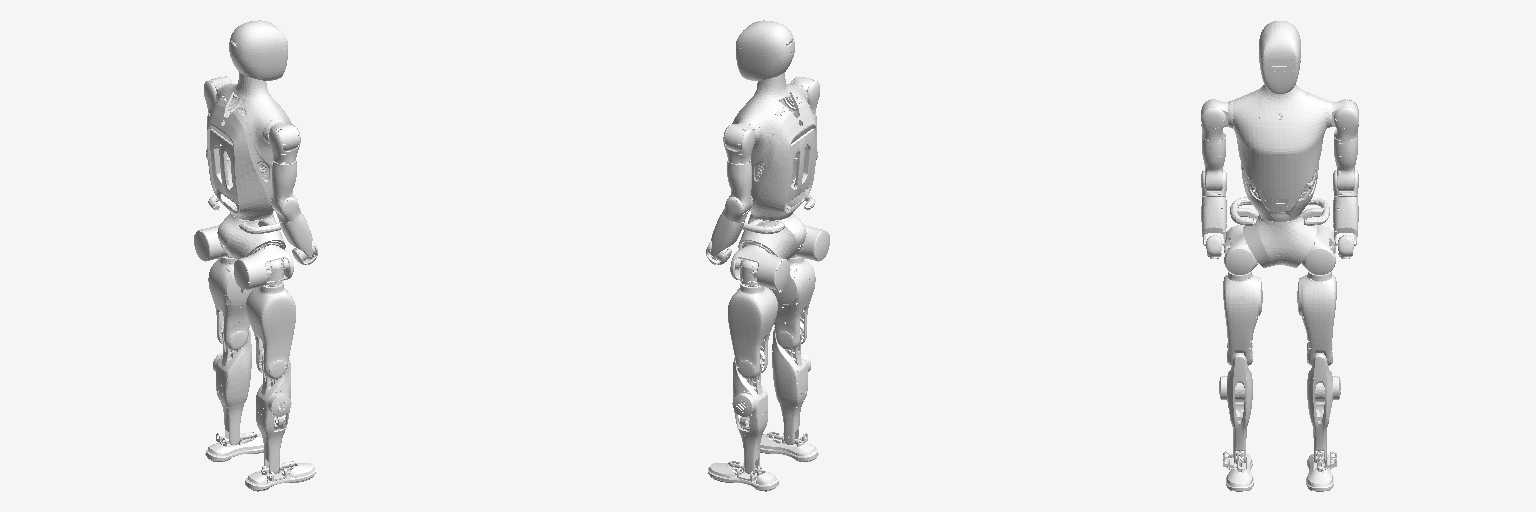
--- What the picture shows (computed from the rendered views, not written in the file) ---
Views: 3 orthographic renders of the robot side by side, from view 1: azimuth 30°, elevation 25°; view 2: azimuth 150°, elevation 25°; view 3: azimuth 270°, elevation 25°.
Robot: gr2v3_8_7 — 35 links, 34 joints (29 revolute, 5 fixed); root link base_link; default pose: every joint at zero.
Visible links, largest first — view 1: torso_link, right_thigh_yaw_link, head_pitch_link, left_thigh_yaw_link, left_shank_pitch_link, right_shank_pitch_link, base_link, right_thigh_pitch_link, right_foot_roll_link, left_foot_roll_link, right_upper_arm_yaw_link, right_hand_yaw_link (+2 smaller); view 2: torso_link, left_thigh_yaw_link, head_pitch_link, right_thigh_yaw_link, right_shank_pitch_link, left_shank_pitch_link, base_link, left_thigh_pitch_link, left_foot_roll_link, right_foot_roll_link, left_upper_arm_yaw_link, right_thigh_pitch_link (+2 smaller); view 3: torso_link, base_link, left_thigh_yaw_link, right_thigh_yaw_link, head_pitch_link, right_shank_pitch_link, left_shank_pitch_link, left_thigh_pitch_link, right_thigh_pitch_link, left_upper_arm_yaw_link, right_upper_arm_yaw_link, right_hand_yaw_link (+5 smaller).
Link boxes in pixels (x1,y1,x2,y2): torso_link: [207, 72, 291, 220]; right_thigh_yaw_link: [246, 283, 295, 378]; head_pitch_link: [229, 20, 287, 80]; left_thigh_yaw_link: [208, 256, 254, 349]; left_shank_pitch_link: [213, 329, 251, 444]; right_shank_pitch_link: [256, 358, 291, 473]; base_link: [208, 195, 285, 259]; right_thigh_pitch_link: [234, 245, 293, 290]; right_foot_roll_link: [245, 463, 315, 491]; left_foot_roll_link: [205, 433, 263, 461]; right_upper_arm_yaw_link: [271, 161, 296, 213]; right_hand_yaw_link: [279, 212, 312, 256]; torso_link: [732, 72, 816, 220]; left_thigh_yaw_link: [728, 283, 777, 378]; head_pitch_link: [736, 20, 794, 80]; right_thigh_yaw_link: [769, 256, 815, 349]; right_shank_pitch_link: [772, 329, 810, 444]; left_shank_pitch_link: [732, 358, 767, 473]; base_link: [738, 195, 815, 259]; left_thigh_pitch_link: [730, 245, 790, 290]; left_foot_roll_link: [708, 463, 778, 491]; right_foot_roll_link: [760, 433, 818, 461]; left_upper_arm_yaw_link: [727, 161, 752, 213]; right_thigh_pitch_link: [796, 225, 829, 261]; torso_link: [1228, 85, 1331, 221]; base_link: [1230, 197, 1329, 267]; left_thigh_yaw_link: [1297, 271, 1336, 365]; right_thigh_yaw_link: [1223, 271, 1262, 365]; head_pitch_link: [1259, 21, 1300, 93]; right_shank_pitch_link: [1219, 353, 1252, 462]; left_shank_pitch_link: [1307, 353, 1340, 462]; left_thigh_pitch_link: [1301, 225, 1335, 274]; right_thigh_pitch_link: [1224, 225, 1258, 274]; left_upper_arm_yaw_link: [1334, 137, 1357, 190]; right_upper_arm_yaw_link: [1202, 137, 1225, 190]; right_hand_yaw_link: [1201, 196, 1226, 245].
Bounding box of the posed robot: 0.3069 × 0.5522 × 1.74 m (x, y, z).
Meshes: 31 distinct files referenced, 31 mesh visuals loaded (31 binary STL).

robot.urdf — gr2v3_8_7:
<?xml version="1.0" encoding="utf-8"?>
<!-- 09222025-alpha-1 -->
<robot name="gr2v3_8_7">
  <mujoco>
    <compiler meshdir="../meshes" strippath="false" balanceinertia="true" fusestatic="false" discardvisual="false" />
  </mujoco>
  <link name="base_link">
    <inertial>
      <origin xyz="-0.0030357 6.968E-05 -0.087284" rpy="0 0 0" />
      <mass value="6.6598" />
      <inertia ixx="0.048356" ixy="-1.314E-05" ixz="0.00041517" iyy="0.030781" iyz="-3.242E-05" izz="0.041191" />
    </inertial>
    <visual>
      <origin xyz="0 0 0" rpy="0 0 0" />
      <geometry>
        <mesh filename="../meshes/gr2v3_8_7/base_link.STL" />
      </geometry>
      <material name="">
        <color rgba="1 1 1 1" />
      </material>
    </visual>
    <collision>
      <origin xyz="0 0.125 0.01" rpy="0 0 0" />
      <geometry>
        <box size="0.18 0.06 0.02" />
      </geometry>
    </collision>
    <collision>
      <origin xyz="0 -0.125 0.01" rpy="0 0 0" />
      <geometry>
        <box size="0.18 0.06 0.02" />
      </geometry>
    </collision>
    <collision>
      <origin xyz="-0.03 0 -0.08" rpy="1.57 0 0" />
      <geometry>
        <cylinder radius="0.1" length="0.17" />
      </geometry>
    </collision>
  </link>
  <link name="waist_yaw_link">
    <inertial>
      <origin xyz="-2.017E-05 8.88E-05 0.024104" rpy="0 0 0" />
      <mass value="0.67252" />
      <inertia ixx="0.0010622" ixy="9E-08" ixz="-4.3E-07" iyy="0.0010624" iyz="3.7E-07" izz="0.00059099" />
    </inertial>
    <visual>
      <origin xyz="0 0 0" rpy="0 0 0" />
      <geometry>
        <mesh filename="../meshes/gr2v3_8_7/waist_yaw_link.STL" />
      </geometry>
      <material name="">
        <color rgba="1 1 1 1" />
      </material>
    </visual>
  </link>
  <joint name="waist_yaw_joint" type="revolute">
    <origin xyz="0 0 -0.0159" rpy="0 0 0" />
    <parent link="base_link" />
    <child link="waist_yaw_link" />
    <axis xyz="0 0 1" />
    <limit lower="-2.618" upper="2.618" effort="74.45" velocity="7.7568" />
    <dynamics armature="0.606" friction="0.01" damping="0.01" />
  </joint>
  <link name="torso_link">
    <inertial>
      <origin xyz="-0.0054214 0.0010624 -0.12326" rpy="0 0 0" />
      <mass value="14.058" />
      <inertia ixx="0.2545" ixy="0.0001127" ixz="-0.0023" iyy="0.21565" iyz="0.00034939" izz="0.1107" />
    </inertial>
    <visual>
      <origin xyz="0 0 0" rpy="0 0 0" />
      <geometry>
        <mesh filename="../meshes/gr2v3_8_7/torso_link.STL" />
      </geometry>
      <material name="">
        <color rgba="1 1 1 1" />
      </material>
    </visual>
    <collision>
      <origin xyz="0 0 -0.13" rpy="0 0 0" />
      <geometry>
        <cylinder radius="0.15" length="0.3" />
      </geometry>
    </collision>
  </link>
  <joint name="torso_joint" type="fixed">
    <origin xyz="0 0 0.39681" rpy="0 0 0" />
    <parent link="waist_yaw_link" />
    <child link="torso_link" />
    <axis xyz="0 0 0" />
  </joint>
  <link name="head_yaw_link">
    <inertial>
      <origin xyz="0 0.0099543 0.0065646" rpy="0 0 0" />
      <mass value="0.1402" />
      <inertia ixx="0.00012944" ixy="0" ixz="0" iyy="0.00010676" iyz="-3.991E-05" izz="4.821E-05" />
    </inertial>
    <visual>
      <origin xyz="0 0 0" rpy="0 0 0" />
      <geometry>
        <mesh filename="../meshes/gr2v3_8_7/head_yaw_link.STL" />
      </geometry>
      <material name="">
        <color rgba="1 1 1 1" />
      </material>
    </visual>
  </link>
  <joint name="head_yaw_joint" type="revolute">
    <origin xyz="0.001 0 0.11061" rpy="0 0 0" />
    <parent link="torso_link" />
    <child link="head_yaw_link" />
    <axis xyz="0 0 1" />
    <limit lower="-1.3963" upper="1.3963" effort="17.325" velocity="9.1627" />
    <dynamics armature="0.111" friction="0.01" damping="0.01" />
  </joint>
  <link name="head_pitch_link">
    <inertial>
      <origin xyz="0.031582 0.0012059 0.072239" rpy="0 0 0" />
      <mass value="1.6096" />
      <inertia ixx="0.0077257" ixy="-1.346E-05" ixz="-0.00055988" iyy="0.010424" iyz="0.00010711" izz="0.0060799" />
    </inertial>
    <visual>
      <origin xyz="0 0 0" rpy="0 0 0" />
      <geometry>
        <mesh filename="../meshes/gr2v3_8_7/head_pitch_link.STL" />
      </geometry>
      <material name="">
        <color rgba="1 1 1 1" />
      </material>
    </visual>
    <collision>
      <origin xyz="0.02 0 0.07" rpy="0 0 0" />
      <geometry>
        <sphere radius="0.09" />
      </geometry>
    </collision>
  </link>
  <joint name="head_pitch_joint" type="revolute">
    <origin xyz="0 0 0.044185" rpy="0 0 0" />
    <parent link="head_yaw_link" />
    <child link="head_pitch_link" />
    <axis xyz="0 1 0" />
    <limit lower="-0.5236" upper="0.5236" effort="17.325" velocity="9.1627" />
    <dynamics armature="0.111" friction="0.01" damping="0.01" />
  </joint>
  <link name="camera_link">
  </link>
  <joint name="camera_joint" type="fixed">
    <origin xyz="0.11296 0 0.09815" rpy="0 0 0" />
    <parent link="head_pitch_link" />
    <child link="camera_link" />
    <axis xyz="0 0 0" />
  </joint>
  <link name="left_upper_arm_pitch_link">
    <inertial>
      <origin xyz="0.0022312 0.040265 3.797E-05" rpy="0 0 0" />
      <mass value="1.3432" />
      <inertia ixx="0.0031811" ixy="-7.306E-05" ixz="-1.5E-07" iyy="0.0012561" iyz="9E-08" izz="0.0030442" />
    </inertial>
    <visual>
      <origin xyz="0 0 0" rpy="0 0 0" />
      <geometry>
        <mesh filename="../meshes/gr2v3_8_7/left_upper_arm_pitch_link.STL" />
      </geometry>
      <material name="">
        <color rgba="1 1 1 1" />
      </material>
    </visual>
  </link>
  <joint name="left_shoulder_pitch_joint" type="revolute">
    <origin xyz="0 0.15115 0" rpy="0 0 0" />
    <parent link="torso_link" />
    <child link="left_upper_arm_pitch_link" />
    <axis xyz="0 1 0" />
    <limit lower="-2.9671" upper="2.9671" effort="74.45" velocity="7.7568" />
    <dynamics armature="0.606" friction="0.01" damping="0.01" />
  </joint>
  <link name="left_upper_arm_roll_link">
    <inertial>
      <origin xyz="0.0087432 0.0022878 -0.038787" rpy="0 0 0" />
      <mass value="0.96142" />
      <inertia ixx="0.0026111" ixy="1.105E-05" ixz="-0.00033468" iyy="0.0028017" iyz="2.91E-06" izz="0.00091191" />
    </inertial>
    <visual>
      <origin xyz="0 0 0" rpy="0 0 0" />
      <geometry>
        <mesh filename="../meshes/gr2v3_8_7/left_upper_arm_roll_link.STL" />
      </geometry>
      <material name="">
        <color rgba="1 1 1 1" />
      </material>
    </visual>
    <collision>
      <origin xyz="0 0 0" rpy="0 0 0" />
      <geometry>
        <sphere radius="0.045" />
      </geometry>
    </collision>
  </link>
  <joint name="left_shoulder_roll_joint" type="revolute">
    <origin xyz="0 0.078848 0" rpy="0 0 0" />
    <parent link="left_upper_arm_pitch_link" />
    <child link="left_upper_arm_roll_link" />
    <axis xyz="1 0 0" />
    <limit lower="-0.5236" upper="2.7925" effort="74.45" velocity="7.7568" />
    <dynamics armature="0.606" friction="0.01" damping="0.01" />
  </joint>
  <link name="left_upper_arm_yaw_link">
    <inertial>
      <origin xyz="-0.00056161 0.0012137 -0.091108" rpy="0 0 0" />
      <mass value="1.3181" />
      <inertia ixx="0.0067903" ixy="3.2E-07" ixz="-5.12E-06" iyy="0.0068059" iyz="9.238E-05" izz="0.0010853" />
    </inertial>
    <visual>
      <origin xyz="0 0 0" rpy="0 0 0" />
      <geometry>
        <mesh filename="../meshes/gr2v3_8_7/left_upper_arm_yaw_link.STL" />
      </geometry>
      <material name="">
        <color rgba="1 1 1 1" />
      </material>
    </visual>
    <collision>
      <origin xyz="0 0 -0.05" rpy="0 0 0" />
      <geometry>
        <cylinder radius="0.04" length="0.10" />
      </geometry>
    </collision>
  </link>
  <joint name="left_shoulder_yaw_joint" type="revolute">
    <origin xyz="0 0 -0.09438" rpy="0 0 0" />
    <parent link="left_upper_arm_roll_link" />
    <child link="left_upper_arm_yaw_link" />
    <axis xyz="0 0 1" />
    <limit lower="-1.8326" upper="1.8326" effort="42.75" velocity="6.283" />
    <dynamics armature="0.222" friction="0.01" damping="0.01" />
  </joint>
  <link name="left_lower_arm_pitch_link">
    <inertial>
      <origin xyz="-0.0014862 0.006973 -0.021097" rpy="0 0 0" />
      <mass value="0.45807" />
      <inertia ixx="0.00068974" ixy="-3.65E-06" ixz="-2.99E-06" iyy="0.00057464" iyz="-6.575E-05" izz="0.00038897" />
    </inertial>
    <visual>
      <origin xyz="0 0 0" rpy="0 0 0" />
      <geometry>
        <mesh filename="../meshes/gr2v3_8_7/left_lower_arm_pitch_link.STL" />
      </geometry>
      <material name="">
        <color rgba="1 1 1 1" />
      </material>
    </visual>
  </link>
  <joint name="left_elbow_pitch_joint" type="revolute">
    <origin xyz="0 0 -0.16111" rpy="0 -0.3926 0" />
    <parent link="left_upper_arm_yaw_link" />
    <child link="left_lower_arm_pitch_link" />
    <axis xyz="0 1 0" />
    <limit lower="-1.5272" upper="0.47997" effort="42.75" velocity="6.283" />
    <dynamics armature="0.222" friction="0.01" damping="0.01" />
  </joint>
  <link name="left_hand_yaw_link">
    <inertial>
      <origin xyz="0.00027991 0.0038031 -0.062955" rpy="0 0 0" />
      <mass value="1.0855" />
      <inertia ixx="0.0023598" ixy="-9.31E-06" ixz="2.063E-05" iyy="0.002234" iyz="0.00013994" izz="0.00088838" />
    </inertial>
    <visual>
      <origin xyz="0 0 0" rpy="0 0 0" />
      <geometry>
        <mesh filename="../meshes/gr2v3_8_7/left_hand_yaw_link.STL" />
      </geometry>
      <material name="">
        <color rgba="1 1 1 1" />
      </material>
    </visual>
    <collision>
      <origin xyz="0 0 -0.05" rpy="0 0 0" />
      <geometry>
        <cylinder radius="0.045" length="0.115" />
      </geometry>
    </collision>
  </link>
  <joint name="left_wrist_yaw_joint" type="revolute">
    <origin xyz="0 0 -0.058525" rpy="0 0 0" />
    <parent link="left_lower_arm_pitch_link" />
    <child link="left_hand_yaw_link" />
    <axis xyz="0 0 1" />
    <limit lower="-1.8326" upper="1.8326" effort="17.325" velocity="9.1627" />
    <dynamics armature="0.111" friction="0.01" damping="0.01" />
  </joint>
  <link name="left_hand_pitch_link">
    <inertial>
      <origin xyz="0.0038604 2.7474E-05 2.9411E-06" rpy="0 0 0" />
      <mass value="0.45716" />
      <inertia ixx="0.00021943" ixy="-3.7E-07" ixz="-8.6975E-08" iyy="0.00022813" iyz="-2.1E-07" izz="0.00023483" />
    </inertial>
    <visual>
      <origin xyz="0 0 0" rpy="0 0 0" />
      <geometry>
        <mesh filename="../meshes/gr2v3_8_7/left_hand_pitch_link.STL" />
      </geometry>
      <material name="">
        <color rgba="1 1 1 1" />
      </material>
    </visual>
  </link>
  <joint name="left_wrist_pitch_joint" type="revolute">
    <origin xyz="0 0 -0.16102" rpy="0 0 0" />
    <parent link="left_hand_yaw_link" />
    <child link="left_hand_pitch_link" />
    <axis xyz="0 1 0" />
    <limit lower="-0.61087" upper="0.61087" effort="17.325" velocity="9.1627" />
    <dynamics armature="0.111" friction="0.01" damping="0.01" />
  </joint>
  <link name="left_hand_roll_link">
    <inertial>
      <origin xyz="0.0087325 -2.8386E-05 -0.015719" rpy="0 0 0" />
      <mass value="0.20259" />
      <inertia ixx="0.0001134" ixy="-1.8583E-08" ixz="-2.4468E-05" iyy="0.00019338" iyz="-6.0314E-08" izz="0.0001471" />
    </inertial>
    <visual>
      <origin xyz="0 0 0" rpy="0 0 0" />
      <geometry>
        <mesh filename="../meshes/gr2v3_8_7/left_hand_roll_link.STL" />
      </geometry>
      <material name="">
        <color rgba="1 1 1 1" />
      </material>
    </visual>
  </link>
  <joint name="left_wrist_roll_joint" type="revolute">
    <origin xyz="0 0 0" rpy="0 0 0" />
    <parent link="left_hand_pitch_link" />
    <child link="left_hand_roll_link" />
    <axis xyz="1 0 0" />
    <limit lower="-0.95993" upper="0.95993" effort="17.325" velocity="9.1627" />
    <dynamics armature="0.111" friction="0.01" damping="0.01" />
  </joint>
  <link name="left_end_effector_link">
  </link>
  <joint name="left_end_effector_joint" type="fixed">
    <origin xyz="0 0 -0.045" rpy="0 0 0" />
    <parent link="left_hand_roll_link" />
    <child link="left_end_effector_link" />
    <axis xyz="0 0 0" />
  </joint>
  <link name="right_upper_arm_pitch_link">
    <inertial>
      <origin xyz="0.0022312 -0.040265 3.797E-05" rpy="0 0 0" />
      <mass value="1.3432" />
      <inertia ixx="0.0031811" ixy="7.306E-05" ixz="-1.5E-07" iyy="0.0012561" iyz="-9E-08" izz="0.0030442" />
    </inertial>
    <visual>
      <origin xyz="0 0 0" rpy="0 0 0" />
      <geometry>
        <mesh filename="../meshes/gr2v3_8_7/right_upper_arm_pitch_link.STL" />
      </geometry>
      <material name="">
        <color rgba="1 1 1 1" />
      </material>
    </visual>
  </link>
  <joint name="right_shoulder_pitch_joint" type="revolute">
    <origin xyz="0 -0.1585 0" rpy="0 0 0" />
    <parent link="torso_link" />
    <child link="right_upper_arm_pitch_link" />
    <axis xyz="0 1 0" />
    <limit lower="-2.9671" upper="2.9671" effort="74.45" velocity="7.7568" />
    <dynamics armature="0.606" friction="0.01" damping="0.01" />
  </joint>
  <link name="right_upper_arm_roll_link">
    <inertial>
      <origin xyz="0.0087432 -0.0022878 -0.038787" rpy="0 0 0" />
      <mass value="0.96142" />
      <inertia ixx="0.0026111" ixy="-1.105E-05" ixz="-0.00033468" iyy="0.0028017" iyz="-2.91E-06" izz="0.00091191" />
    </inertial>
    <visual>
      <origin xyz="0 0 0" rpy="0 0 0" />
      <geometry>
        <mesh filename="../meshes/gr2v3_8_7/right_upper_arm_roll_link.STL" />
      </geometry>
      <material name="">
        <color rgba="1 1 1 1" />
      </material>
    </visual>
    <collision>
      <origin xyz="0 0 0" rpy="0 0 0" />
      <geometry>
        <sphere radius="0.045" />
      </geometry>
    </collision>
  </link>
  <joint name="right_shoulder_roll_joint" type="revolute">
    <origin xyz="0 -0.071498 0" rpy="0 0 0" />
    <parent link="right_upper_arm_pitch_link" />
    <child link="right_upper_arm_roll_link" />
    <axis xyz="1 0 0" />
    <limit lower="-2.7925" upper="0.5236" effort="74.45" velocity="7.7568" />
    <dynamics armature="0.606" friction="0.01" damping="0.01" />
  </joint>
  <link name="right_upper_arm_yaw_link">
    <inertial>
      <origin xyz="-0.00056161 -0.0012137 -0.091108" rpy="0 0 0" />
      <mass value="1.3181" />
      <inertia ixx="0.0067903" ixy="-3.2E-07" ixz="-5.12E-06" iyy="0.0068059" iyz="-9.238E-05" izz="0.0010853" />
    </inertial>
    <visual>
      <origin xyz="0 0 0" rpy="0 0 0" />
      <geometry>
        <mesh filename="../meshes/gr2v3_8_7/right_upper_arm_yaw_link.STL" />
      </geometry>
      <material name="">
        <color rgba="1 1 1 1" />
      </material>
    </visual>
    <collision>
      <origin xyz="0 0 -0.05" rpy="0 0 0" />
      <geometry>
        <cylinder radius="0.040" length="0.1" />
      </geometry>
    </collision>
  </link>
  <joint name="right_shoulder_yaw_joint" type="revolute">
    <origin xyz="0 0 -0.09438" rpy="0 0 0" />
    <parent link="right_upper_arm_roll_link" />
    <child link="right_upper_arm_yaw_link" />
    <axis xyz="0 0 1" />
    <limit lower="-1.8326" upper="1.8326" effort="42.75" velocity="6.283" />
    <dynamics armature="0.222" friction="0.01" damping="0.01" />
  </joint>
  <link name="right_lower_arm_pitch_link">
    <inertial>
      <origin xyz="-0.0014862 -0.006973 -0.021097" rpy="0 0 0" />
      <mass value="0.45807" />
      <inertia ixx="0.00068974" ixy="3.65E-06" ixz="-2.99E-06" iyy="0.00057464" iyz="6.575E-05" izz="0.00038897" />
    </inertial>
    <visual>
      <origin xyz="0 0 0" rpy="0 0 0" />
      <geometry>
        <mesh filename="../meshes/gr2v3_8_7/right_lower_arm_pitch_link.STL" />
      </geometry>
      <material name="">
        <color rgba="1 1 1 1" />
      </material>
    </visual>
  </link>
  <joint name="right_elbow_pitch_joint" type="revolute">
    <origin xyz="0 0 -0.16111" rpy="0 -0.39265 0" />
    <parent link="right_upper_arm_yaw_link" />
    <child link="right_lower_arm_pitch_link" />
    <axis xyz="0 1 0" />
    <limit lower="-1.5272" upper="0.47997" effort="42.75" velocity="6.283" />
    <dynamics armature="0.222" friction="0.01" damping="0.01" />
  </joint>
  <link name="right_hand_yaw_link">
    <inertial>
      <origin xyz="0.00027991 -0.0038031 -0.062955" rpy="0 0 0" />
      <mass value="1.0855" />
      <inertia ixx="0.0023598" ixy="9.31E-06" ixz="2.063E-05" iyy="0.002234" iyz="-0.00013994" izz="0.00088838" />
    </inertial>
    <visual>
      <origin xyz="0 0 0" rpy="0 0 0" />
      <geometry>
        <mesh filename="../meshes/gr2v3_8_7/right_hand_yaw_link.STL" />
      </geometry>
      <material name="">
        <color rgba="1 1 1 1" />
      </material>
    </visual>
    <collision>
      <origin xyz="0 0 -0.05" rpy="0 0 0" />
      <geometry>
        <cylinder radius="0.045" length="0.1155" />
      </geometry>
    </collision>
  </link>
  <joint name="right_wrist_yaw_joint" type="revolute">
    <origin xyz="0 0 -0.058525" rpy="0 0 0" />
    <parent link="right_lower_arm_pitch_link" />
    <child link="right_hand_yaw_link" />
    <axis xyz="0 0 1" />
    <limit lower="-1.8326" upper="1.8326" effort="17.325" velocity="9.1627" />
    <dynamics armature="0.111" friction="0.01" damping="0.01" />
  </joint>
  <link name="right_hand_pitch_link">
    <inertial>
      <origin xyz="0.0038604 -2.7474E-05 2.9411E-06" rpy="0 0 0" />
      <mass value="0.45716" />
      <inertia ixx="0.00021943" ixy="3.7E-07" ixz="-8.6975E-08" iyy="0.00022813" iyz="2.1E-07" izz="0.00023483" />
    </inertial>
    <visual>
      <origin xyz="0 0 0" rpy="0 0 0" />
      <geometry>
        <mesh filename="../meshes/gr2v3_8_7/right_hand_pitch_link.STL" />
      </geometry>
      <material name="">
        <color rgba="1 1 1 1" />
      </material>
    </visual>
  </link>
  <joint name="right_wrist_pitch_joint" type="revolute">
    <origin xyz="0 0 -0.16102" rpy="0 0 0" />
    <parent link="right_hand_yaw_link" />
    <child link="right_hand_pitch_link" />
    <axis xyz="0 1 0" />
    <limit lower="-0.61087" upper="0.61087" effort="17.325" velocity="9.1627" />
    <dynamics armature="0.111" friction="0.01" damping="0.01" />
  </joint>
  <link name="right_hand_roll_link">
    <inertial>
      <origin xyz="0.0087325 2.8386E-05 -0.015719" rpy="0 0 0" />
      <mass value="0.20259" />
      <inertia ixx="0.0001134" ixy="1.8583E-08" ixz="-2.4468E-05" iyy="0.00019338" iyz="6.0314E-08" izz="0.0001471" />
    </inertial>
    <visual>
      <origin xyz="0 0 0" rpy="0 0 0" />
      <geometry>
        <mesh filename="../meshes/gr2v3_8_7/right_hand_roll_link.STL" />
      </geometry>
      <material name="">
        <color rgba="1 1 1 1" />
      </material>
    </visual>
  </link>
  <joint name="right_wrist_roll_joint" type="revolute">
    <origin xyz="0 0 0" rpy="0 0 0" />
    <parent link="right_hand_pitch_link" />
    <child link="right_hand_roll_link" />
    <axis xyz="1 0 0" />
    <limit lower="-0.95993" upper="0.95993" effort="17.325" velocity="9.1627" />
    <dynamics armature="0.111" friction="0.01" damping="0.01" />
  </joint>
  <link name="right_end_effector_link">
  </link>
  <joint name="right_end_effector_joint" type="fixed">
    <origin xyz="0 0 -0.045" rpy="0 0 0" />
    <parent link="right_hand_roll_link" />
    <child link="right_end_effector_link" />
    <axis xyz="0 0 0" />
  </joint>
  <link name="left_thigh_pitch_link">
    <inertial>
      <origin xyz="-0.035065 0.036467 0.0020083" rpy="0 0 0" />
      <mass value="2.61" />
      <inertia ixx="0.0075932" ixy="0.0031974" ixz="-8.035E-05" iyy="0.0085937" iyz="-9.448E-05" izz="0.011716" />
    </inertial>
    <visual>
      <origin xyz="0 0 0" rpy="0 0 0" />
      <geometry>
        <mesh filename="../meshes/gr2v3_8_7/left_thigh_pitch_link.STL" />
      </geometry>
      <material name="">
        <color rgba="1 1 1 1" />
      </material>
    </visual>
  </link>
  <joint name="left_hip_pitch_joint" type="revolute">
    <origin xyz="0 0.076867 -0.12355" rpy="-0.5236 0 0" />
    <parent link="base_link" />
    <child link="left_thigh_pitch_link" />
    <axis xyz="0 1 0" />
    <limit lower="-2.618" upper="2.618" effort="366.05" velocity="6.4997" />
    <dynamics armature="0.592" friction="0.01" damping="0.01" />
  </joint>
  <link name="left_thigh_roll_link">
    <inertial>
      <origin xyz="0.027776 -0.00010848 -0.0074687" rpy="0 0 0" />
      <mass value="1.3487" />
      <inertia ixx="0.001181" ixy="-5.3E-06" ixz="0.00034163" iyy="0.0026369" iyz="-3.01E-06" izz="0.0027651" />
    </inertial>
    <visual>
      <origin xyz="0 0 0" rpy="0 0 0" />
      <geometry>
        <mesh filename="../meshes/gr2v3_8_7/left_thigh_roll_link.STL" />
      </geometry>
      <material name="">
        <color rgba="1 1 1 1" />
      </material>
    </visual>
  </link>
  <joint name="left_hip_roll_joint" type="revolute">
    <origin xyz="-0.062 0.0729 0" rpy="0.5236 0 0" />
    <parent link="left_thigh_pitch_link" />
    <child link="left_thigh_roll_link" />
    <axis xyz="1 0 0" />
    <limit lower="-0.59341" upper="1.5708" effort="95.472" velocity="12.362" />
    <dynamics armature="0.121" friction="0.01" damping="0.01" />
  </joint>
  <link name="left_thigh_yaw_link">
    <inertial>
      <origin xyz="0.0010147 -0.012758 -0.14387" rpy="0 0 0" />
      <mass value="5.1152" />
      <inertia ixx="0.042296" ixy="-8.538E-05" ixz="0.00038855" iyy="0.043183" iyz="0.00098874" izz="0.0099198" />
    </inertial>
    <visual>
      <origin xyz="0 0 0" rpy="0 0 0" />
      <geometry>
        <mesh filename="../meshes/gr2v3_8_7/left_thigh_yaw_link.STL" />
      </geometry>
      <material name="">
        <color rgba="1 1 1 1" />
      </material>
    </visual>
    <collision>
      <origin xyz="0 0 -0.19" rpy="0 0 0" />
      <geometry>
        <cylinder radius="0.06" length="0.26" />
      </geometry>
    </collision>
  </link>
  <joint name="left_hip_yaw_joint" type="revolute">
    <origin xyz="0.062 0 -0.03495" rpy="0 0 0" />
    <parent link="left_thigh_roll_link" />
    <child link="left_thigh_yaw_link" />
    <axis xyz="0 0 1" />
    <limit lower="-0.69813" upper="1.5708" effort="54.33" velocity="14.745" />
    <dynamics armature="0.165" friction="0.01" damping="0.01" />
  </joint>
  <link name="left_shank_pitch_link">
    <inertial>
      <origin xyz="0.0045396 0.0037923 -0.17984" rpy="0 0 0" />
      <mass value="3.7232" />
      <inertia ixx="0.036992" ixy="6.79E-05" ixz="-0.00012767" iyy="0.037957" iyz="0.00044476" izz="0.003922" />
    </inertial>
    <visual>
      <origin xyz="0 0 0" rpy="0 0 0" />
      <geometry>
        <mesh filename="../meshes/gr2v3_8_7/left_shank_pitch_link.STL" />
      </geometry>
      <material name="">
        <color rgba="1 1 1 1" />
      </material>
    </visual>
    <collision>
      <origin xyz="0 0 -0.165" rpy="0 0 0" />
      <geometry>
        <cylinder radius="0.05" length="0.18" />
      </geometry>
    </collision>
  </link>
  <joint name="left_knee_pitch_joint" type="revolute">
    <origin xyz="0 0 -0.34305" rpy="0 0 0" />
    <parent link="left_thigh_yaw_link" />
    <child link="left_shank_pitch_link" />
    <axis xyz="0 1 0" />
    <limit lower="-0.087266" upper="2.3562" effort="366.05" velocity="6.4997" />
    <dynamics armature="0.592" friction="0.01" damping="0.01" />
  </joint>
  <link name="left_foot_pitch_link">
    <inertial>
      <origin xyz="0.028326 1.186E-05 0.0010629" rpy="0 0 0" />
      <mass value="0.18479" />
      <inertia ixx="1.263E-05" ixy="-9E-08" ixz="5.55E-06" iyy="0.0002444" iyz="-1.8E-07" izz="0.00024533" />
    </inertial>
    <visual>
      <origin xyz="0 0 0" rpy="0 0 0" />
      <geometry>
        <mesh filename="../meshes/gr2v3_8_7/left_foot_pitch_link.STL" />
      </geometry>
      <material name="">
        <color rgba="1 1 1 1" />
      </material>
    </visual>
  </link>
  <joint name="left_ankle_pitch_joint" type="revolute">
    <origin xyz="0 0 -0.406" rpy="0 0 0" />
    <parent link="left_shank_pitch_link" />
    <child link="left_foot_pitch_link" />
    <axis xyz="0 1 0" />
    <limit lower="-0.7854" upper="0.7854" effort="54.33" velocity="14.745" />
    <dynamics armature="0.165" friction="0.01" damping="0.01" />
  </joint>
  <link name="left_foot_roll_link">
    <inertial>
      <origin xyz="0.027263 0.0064312 -0.032367" rpy="0 0 0" />
      <mass value="1.1125" />
      <inertia ixx="0.0010746" ixy="0.00020984" ixz="0.00016736" iyy="0.0052051" iyz="-0.00019853" izz="0.0056239" />
    </inertial>
    <visual>
      <origin xyz="0 0 0" rpy="0 0 0" />
      <geometry>
        <mesh filename="../meshes/gr2v3_8_7/left_foot_roll_link.STL" />
      </geometry>
      <material name="">
        <color rgba="1 1 1 1" />
      </material>
    </visual>
    <collision>
      <origin xyz="0.06 -0.025 -0.033" rpy="0 1.57 0" />
      <geometry>
        <cylinder radius="0.025" length="0.28" />
      </geometry>
    </collision>
    <collision>
      <origin xyz="0.06 0.025 -0.033" rpy="0 1.57 0" />
      <geometry>
        <cylinder radius="0.025" length="0.28" />
      </geometry>
    </collision>
  </link>
  <joint name="left_ankle_roll_joint" type="revolute">
    <origin xyz="0 0 0" rpy="0 0 0" />
    <parent link="left_foot_pitch_link" />
    <child link="left_foot_roll_link" />
    <axis xyz="1 0 0" />
    <limit lower="-0.38397" upper="0.38397" effort="29.835" velocity="16.755" />
    <dynamics armature="0.031" friction="0.01" damping="0.01" />
  </joint>
  <link name="right_thigh_pitch_link">
    <inertial>
      <origin xyz="-0.035065 -0.036467 0.0020083" rpy="0 0 0" />
      <mass value="2.61" />
      <inertia ixx="0.0075932" ixy="-0.0031974" ixz="-8.035E-05" iyy="0.0085937" iyz="9.448E-05" izz="0.011716" />
    </inertial>
    <visual>
      <origin xyz="0 0 0" rpy="0 0 0" />
      <geometry>
        <mesh filename="../meshes/gr2v3_8_7/right_thigh_pitch_link.STL" />
      </geometry>
      <material name="">
        <color rgba="1 1 1 1" />
      </material>
    </visual>
  </link>
  <joint name="right_hip_pitch_joint" type="revolute">
    <origin xyz="0 -0.076867 -0.12355" rpy="0.5236 0 0" />
    <parent link="base_link" />
    <child link="right_thigh_pitch_link" />
    <axis xyz="0 1 0" />
    <limit lower="-2.618" upper="2.618" effort="366.05" velocity="6.4997" />
    <dynamics armature="0.592" friction="0.01" damping="0.01" />
  </joint>
  <link name="right_thigh_roll_link">
    <inertial>
      <origin xyz="0.027776 0.00010848 -0.0074687" rpy="0 0 0" />
      <mass value="1.3487" />
      <inertia ixx="0.001181" ixy="5.3E-06" ixz="0.00034163" iyy="0.0026369" iyz="3.01E-06" izz="0.0027651" />
    </inertial>
    <visual>
      <origin xyz="0 0 0" rpy="0 0 0" />
      <geometry>
        <mesh filename="../meshes/gr2v3_8_7/right_thigh_roll_link.STL" />
      </geometry>
      <material name="">
        <color rgba="1 1 1 1" />
      </material>
    </visual>
  </link>
  <joint name="right_hip_roll_joint" type="revolute">
    <origin xyz="-0.062 -0.0729 0" rpy="-0.5236 0 0" />
    <parent link="right_thigh_pitch_link" />
    <child link="right_thigh_roll_link" />
    <axis xyz="1 0 0" />
    <limit lower="-1.5708" upper="0.59341" effort="95.472" velocity="12.362" />
    <dynamics armature="0.121" friction="0.01" damping="0.01" />
  </joint>
  <link name="right_thigh_yaw_link">
    <inertial>
      <origin xyz="0.0010147 0.012758 -0.14387" rpy="0 0 0" />
      <mass value="5.1152" />
      <inertia ixx="0.042296" ixy="8.538E-05" ixz="0.00038855" iyy="0.043183" iyz="-0.00098874" izz="0.0099198" />
    </inertial>
    <visual>
      <origin xyz="0 0 0" rpy="0 0 0" />
      <geometry>
        <mesh filename="../meshes/gr2v3_8_7/right_thigh_yaw_link.STL" />
      </geometry>
      <material name="">
        <color rgba="1 1 1 1" />
      </material>
    </visual>
    <collision>
      <origin xyz="0 0 -0.19" rpy="0 0 0" />
      <geometry>
        <cylinder radius="0.06" length="0.26" />
      </geometry>
    </collision>
  </link>
  <joint name="right_hip_yaw_joint" type="revolute">
    <origin xyz="0.062 0 -0.03495" rpy="0 0 0" />
    <parent link="right_thigh_roll_link" />
    <child link="right_thigh_yaw_link" />
    <axis xyz="0 0 1" />
    <limit lower="-1.5708" upper="0.69813" effort="54.33" velocity="14.745" />
    <dynamics armature="0.165" friction="0.01" damping="0.01" />
  </joint>
  <link name="right_shank_pitch_link">
    <inertial>
      <origin xyz="0.0045396 -0.0037923 -0.17984" rpy="0 0 0" />
      <mass value="3.7232" />
      <inertia ixx="0.036992" ixy="-6.79E-05" ixz="-0.00012767" iyy="0.037957" iyz="-0.00044476" izz="0.003922" />
    </inertial>
    <visual>
      <origin xyz="0 0 0" rpy="0 0 0" />
      <geometry>
        <mesh filename="../meshes/gr2v3_8_7/right_shank_pitch_link.STL" />
      </geometry>
      <material name="">
        <color rgba="1 1 1 1" />
      </material>
    </visual>
    <collision>
      <origin xyz="0 0 -0.165" rpy="0 0 0" />
      <geometry>
        <cylinder radius="0.05" length="0.18" />
      </geometry>
    </collision>
  </link>
  <joint name="right_knee_pitch_joint" type="revolute">
    <origin xyz="0 0 -0.34305" rpy="0 0 0" />
    <parent link="right_thigh_yaw_link" />
    <child link="right_shank_pitch_link" />
    <axis xyz="0 1 0" />
    <limit lower="-0.087266" upper="2.3562" effort="366.05" velocity="6.4997" />
    <dynamics armature="0.592" friction="0.01" damping="0.01" />
  </joint>
  <link name="right_foot_pitch_link">
    <inertial>
      <origin xyz="0.028326 -1.186E-05 0.0010629" rpy="0 0 0" />
      <mass value="0.18479" />
      <inertia ixx="1.263E-05" ixy="9E-08" ixz="5.55E-06" iyy="0.0002444" iyz="1.8E-07" izz="0.00024533" />
    </inertial>
    <visual>
      <origin xyz="0 0 0" rpy="0 0 0" />
      <geometry>
        <mesh filename="../meshes/gr2v3_8_7/right_foot_pitch_link.STL" />
      </geometry>
      <material name="">
        <color rgba="1 1 1 1" />
      </material>
    </visual>
  </link>
  <joint name="right_ankle_pitch_joint" type="revolute">
    <origin xyz="0 0 -0.406" rpy="0 0 0" />
    <parent link="right_shank_pitch_link" />
    <child link="right_foot_pitch_link" />
    <axis xyz="0 1 0" />
    <limit lower="-0.7854" upper="0.7854" effort="54.33" velocity="14.745" />
    <dynamics armature="0.165" friction="0.01" damping="0.01" />
  </joint>
  <link name="right_foot_roll_link">
    <inertial>
      <origin xyz="0.027263 -0.0064312 -0.032367" rpy="0 0 0" />
      <mass value="1.1125" />
      <inertia ixx="0.0010746" ixy="-0.00020984" ixz="0.00016736" iyy="0.0052051" iyz="0.00019853" izz="0.0056239" />
    </inertial>
    <visual>
      <origin xyz="0 0 0" rpy="0 0 0" />
      <geometry>
        <mesh filename="../meshes/gr2v3_8_7/right_foot_roll_link.STL" />
      </geometry>
      <material name="">
        <color rgba="1 1 1 1" />
      </material>
    </visual>
    <collision>
      <origin xyz="0.06 -0.025 -0.033" rpy="0 1.57 0" />
      <geometry>
        <cylinder radius="0.025" length="0.28" />
      </geometry>
    </collision>
    <collision>
      <origin xyz="0.06 0.025 -0.033" rpy="0 1.57 0" />
      <geometry>
        <cylinder radius="0.025" length="0.28" />
      </geometry>
    </collision>
  </link>
  <joint name="right_ankle_roll_joint" type="revolute">
    <origin xyz="0 0 0" rpy="0 0 0" />
    <parent link="right_foot_pitch_link" />
    <child link="right_foot_roll_link" />
    <axis xyz="1 0 0" />
    <limit lower="-0.38397" upper="0.38397" effort="29.835" velocity="16.755" />
    <dynamics armature="0.031" friction="0.01" damping="0.01" />
  </joint>
  <link name="imu_link">
    <inertial>
      <origin xyz="0 0 0" rpy="0 0 0" />
      <mass value="0" />
      <inertia ixx="0" ixy="0" ixz="0" iyy="0" iyz="0" izz="0" />
    </inertial>
  </link>
  <joint name="imu_joint" type="fixed">
    <origin xyz="-0.059 0 -0.068" rpy="0 0 0" />
    <parent link="base_link" />
    <child link="imu_link" />
    <axis xyz="0 0 0" />
  </joint>
</robot>
